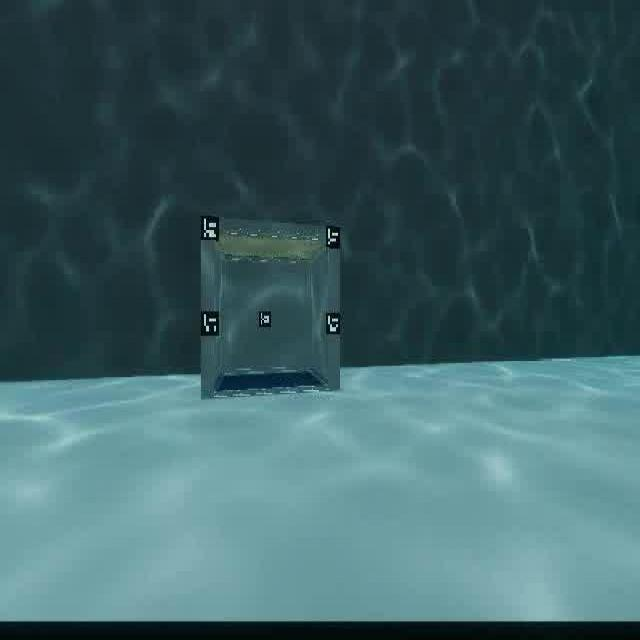Docking Station: (197, 204, 344, 410)
